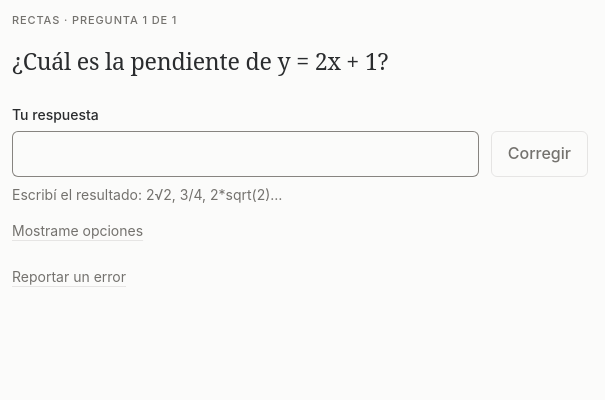
Test: Práctica v2: ronda 1 › otro 400 se muestra tal cual, sin pedir que se escriba de otra forma
Check: the heading "¿Cuál es la pendiente de y = 2x + 1?" is shown, box [12,45,388,77]
Type "2" into the field labelled "Tu respuesta". click: [245, 154]
box: [12,132,479,177]
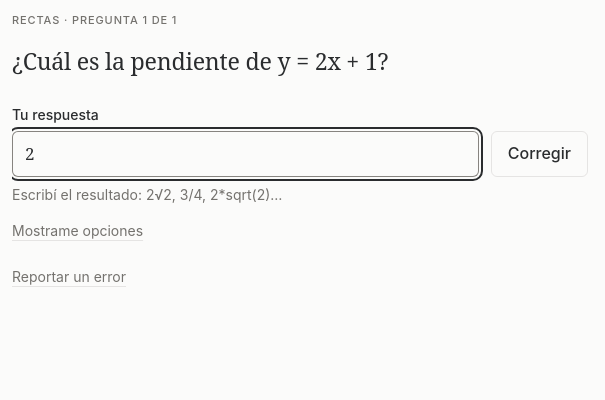
Click the button "Corregir". click: [539, 154]
box: [491,132,588,177]
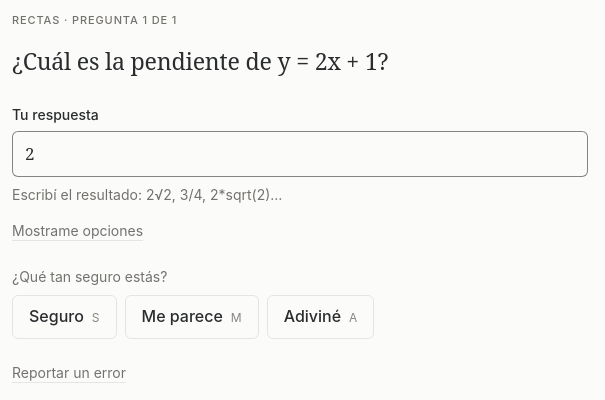
Click the button "Seguro S". click: [64, 317]
box: [12,295,116,339]
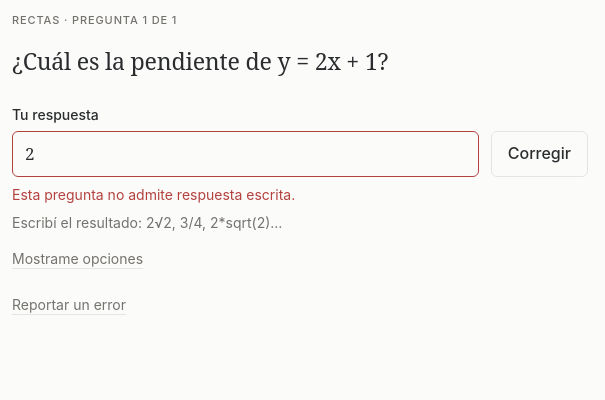
Check: the message does not show "Probá escribirlo de otra forma", box [12,186,295,203]
Check: the message shows "Esta pregunta no admite respuesta escrita", box [12,186,295,203]
